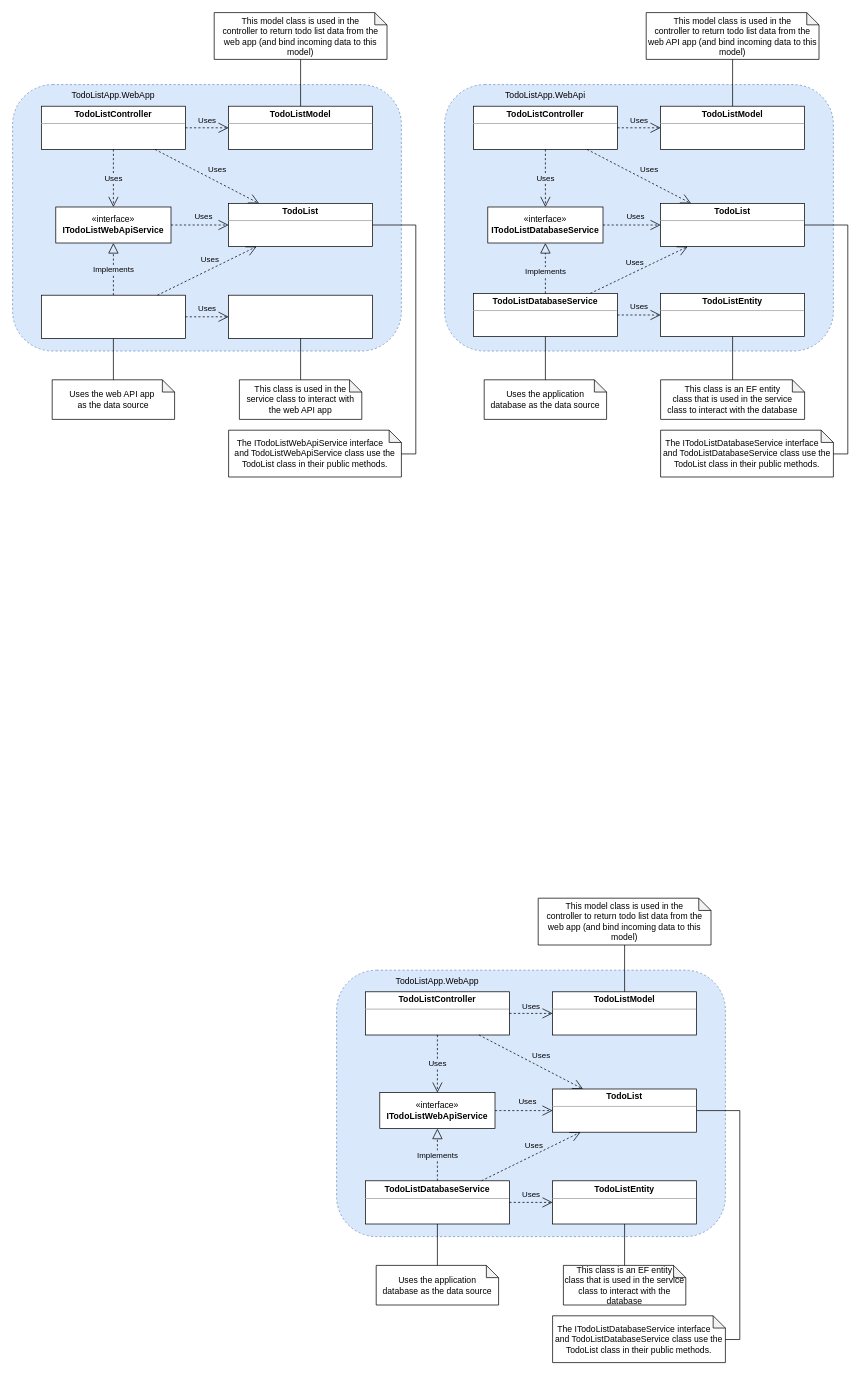
Image size: 861x1375. Some labels were removed from this diagram. The centre of each missing label's shape, as x and y in pixels:
"TodoListWebApiModel" goes at point 300,316.
"TodoListWebApiService" goes at point 113,316.
